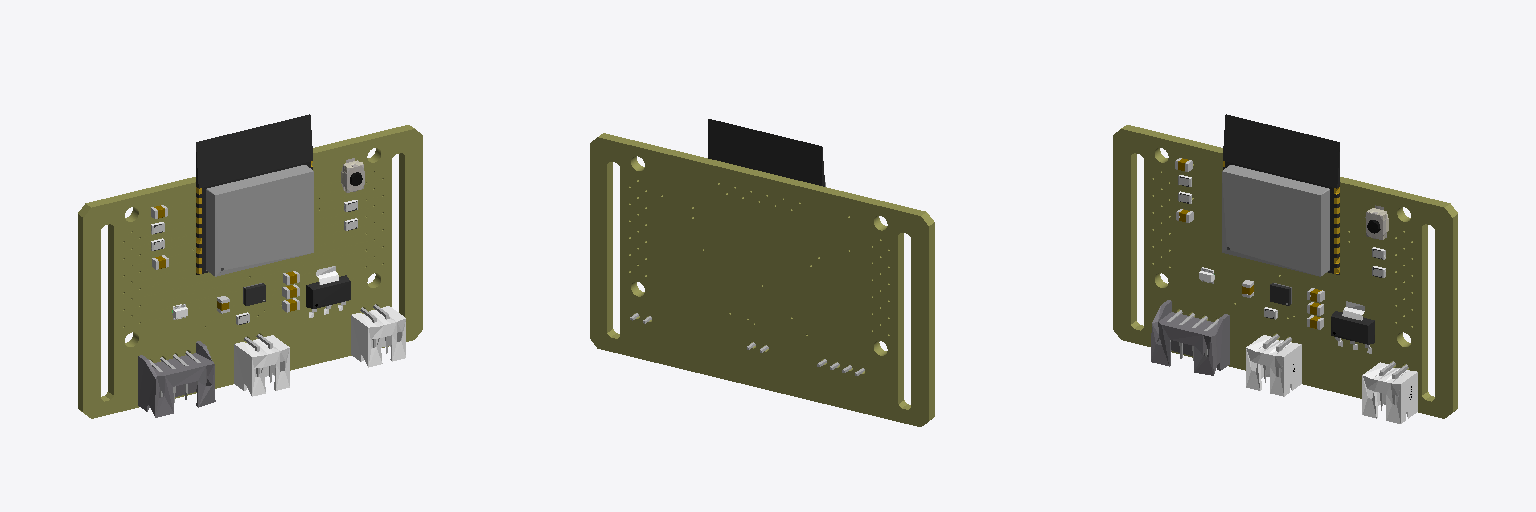
The model's file is 3D_PCB1_2024-02-03.obj.
3 views of the same model, side by side, from view 1: azimuth 30°, elevation 25°; view 2: azimuth 150°, elevation 25°; view 3: azimuth 330°, elevation 25° (orthographic).
Size of the model in its own units: 53.31 by 37.73 by 8.14.